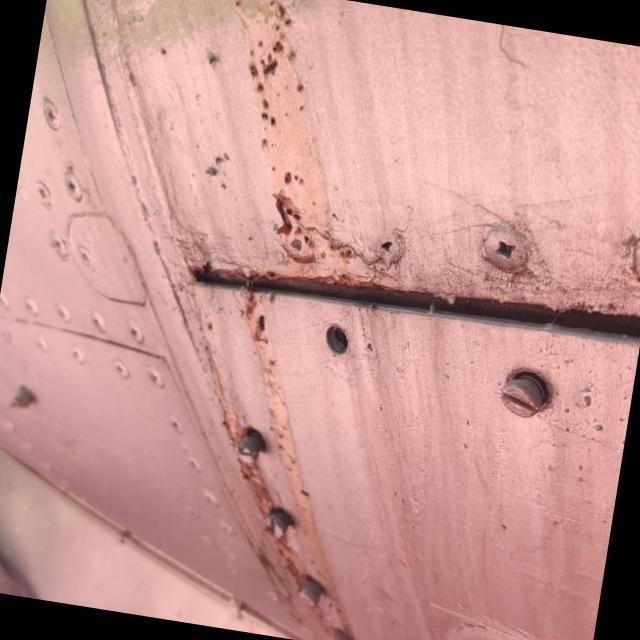Missing Fastener: (326, 324, 348, 354)
